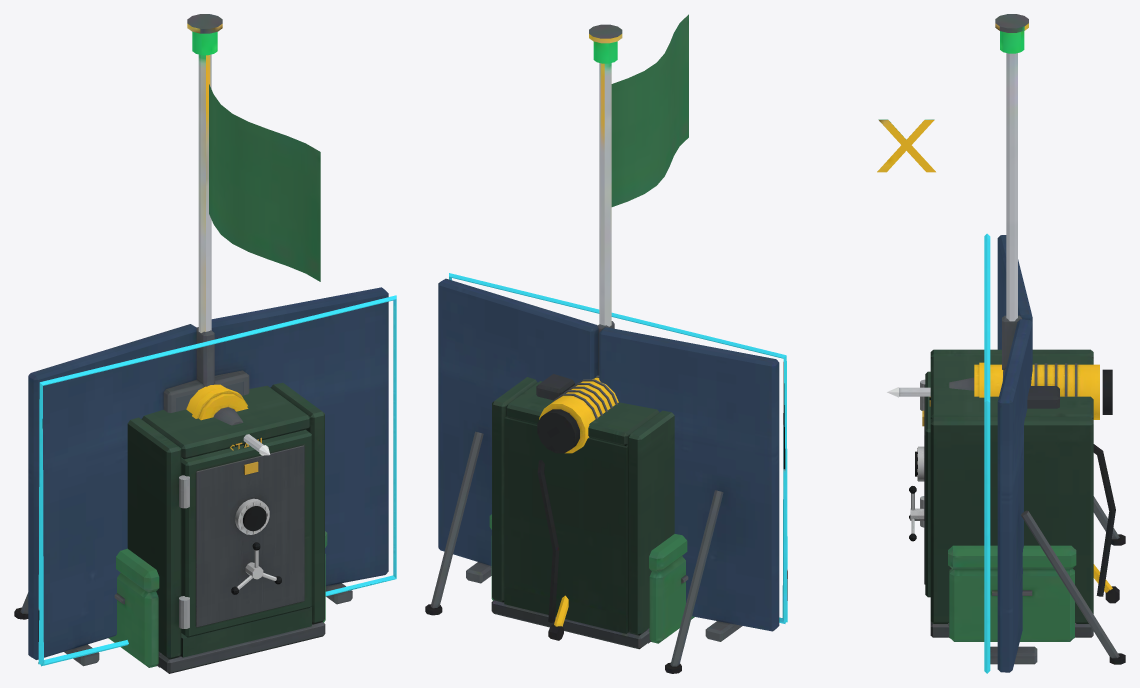
File: gadgets.glb
3 views of the same model, side by side, from view 1: azimuth 30°, elevation 25°; view 2: azimuth 150°, elevation 25°; view 3: azimuth 270°, elevation 25° (orthographic). The views are drawn at different scales.
Visible parts, largest first — view 1: shield_body, safe_body_body, safe_door_body, extract_marker_body, refill_box_body, drill_body, lid, beacon; view 2: shield_body, safe_body_body, extract_marker_body, drill_body, refill_box_body, beacon, lid; view 3: safe_body_body, shield_body, refill_box_body, drill_body, extract_marker_body, safe_door_body, lid, beacon.
Boxes of the visible parts, <box> form: shield_body: <box>14,287,396,666</box>; safe_body_body: <box>127,382,325,673</box>; safe_door_body: <box>181,429,311,637</box>; extract_marker_body: <box>198,54,320,332</box>; refill_box_body: <box>108,554,325,667</box>; drill_body: <box>186,384,270,455</box>; lid: <box>116,531,327,592</box>; beacon: <box>187,14,222,55</box>; shield_body: <box>425,273,787,673</box>; safe_body_body: <box>491,377,674,649</box>; extract_marker_body: <box>599,14,688,326</box>; drill_body: <box>536,374,618,640</box>; refill_box_body: <box>491,536,694,643</box>; beacon: <box>589,24,622,63</box>; lid: <box>489,514,687,572</box>; safe_body_body: <box>920,349,1093,637</box>; shield_body: <box>984,233,1125,673</box>; refill_box_body: <box>948,568,1076,641</box>; drill_body: <box>887,362,1119,603</box>; extract_marker_body: <box>877,53,1017,321</box>; safe_door_body: <box>909,371,930,597</box>; lid: <box>948,545,1076,569</box>; beacon: <box>995,14,1028,53</box>.
Size of what is drawn, in the model's own units: 1.58 by 2.58 by 1.23.
Materials: 18 (16 with a texture image).
